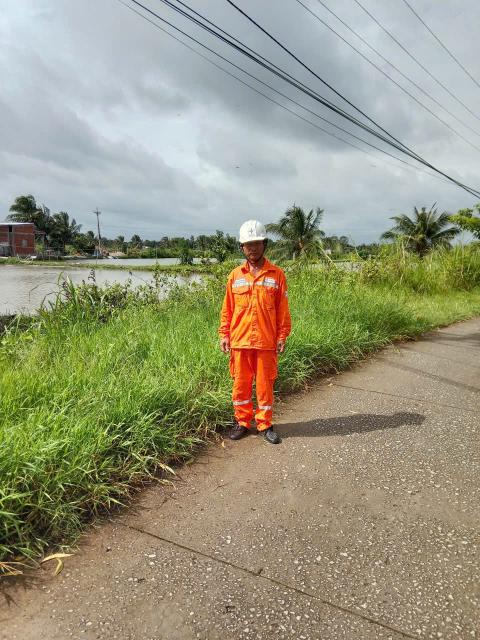helmet: (236, 216, 269, 245)
shoes: (256, 423, 283, 443), (232, 421, 249, 445)
